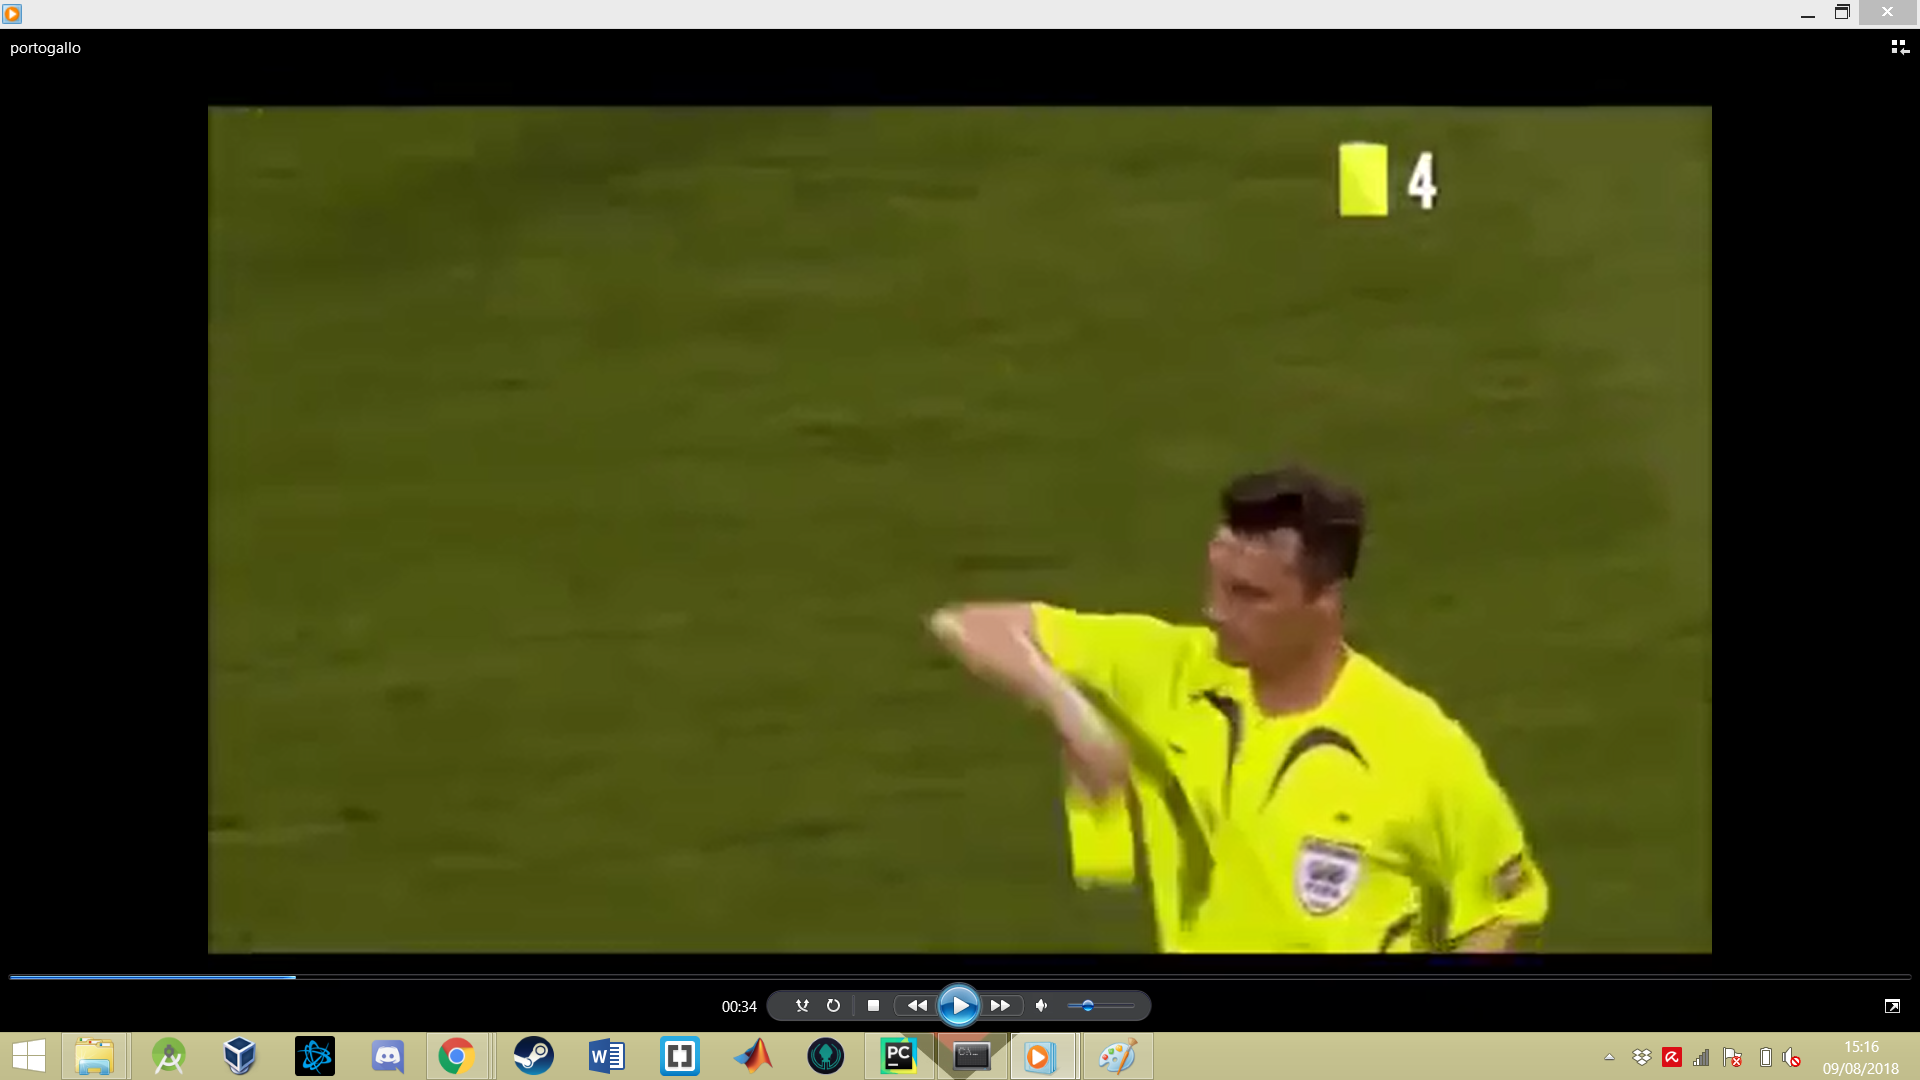yellow_card: (1033, 707, 1147, 897)
